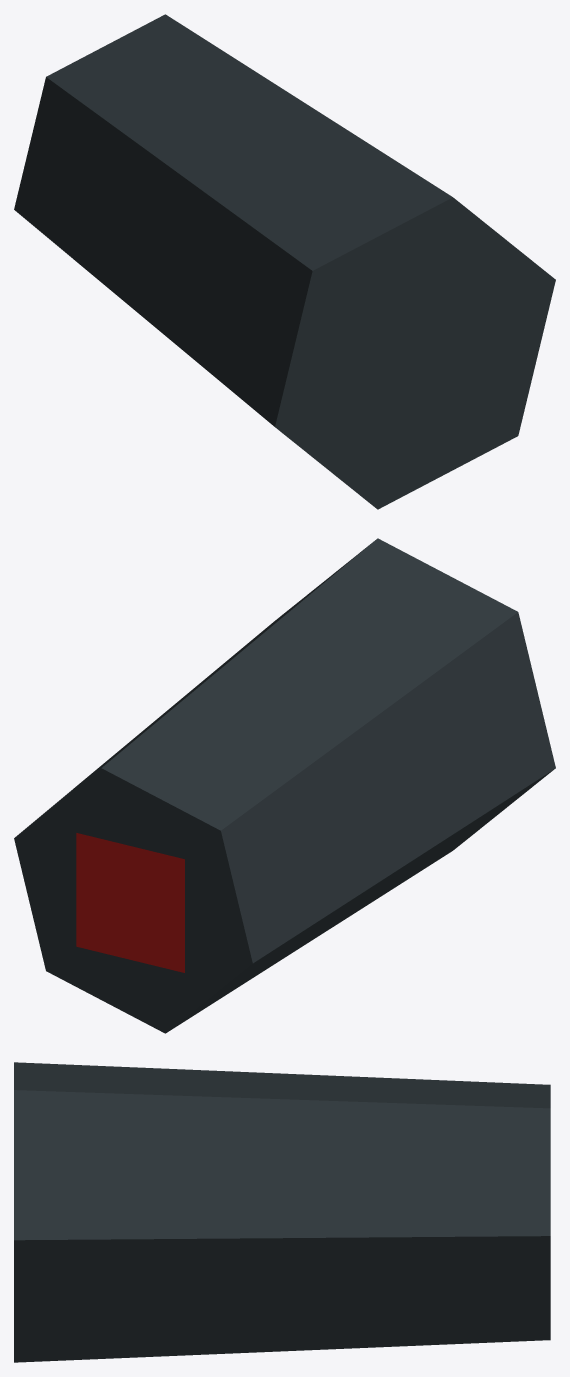
3 views of the same model, one above another, from view 1: azimuth 30°, elevation 25°; view 2: azimuth 150°, elevation 25°; view 3: azimuth 270°, elevation 25° (orthographic). The views are drawn at different scales.
Visible parts, largest first — view 1: mount; view 2: mount; view 3: mount.
Part boxes in pixels (bbox=[...]): mount: bbox=[14, 14, 555, 509]; mount: bbox=[14, 538, 555, 1033]; mount: bbox=[14, 1062, 550, 1362].
Bounding box in the file's own units: 1.76 × 1.76 × 3.09.
